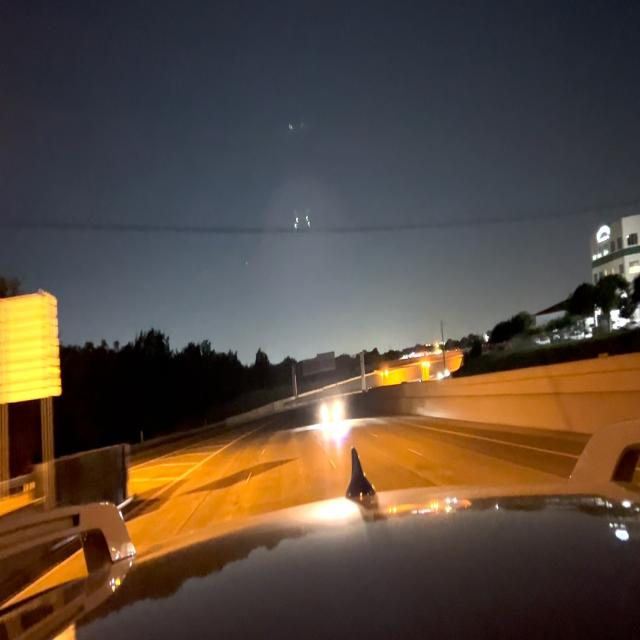back-of-sign: (0, 291, 64, 407)
